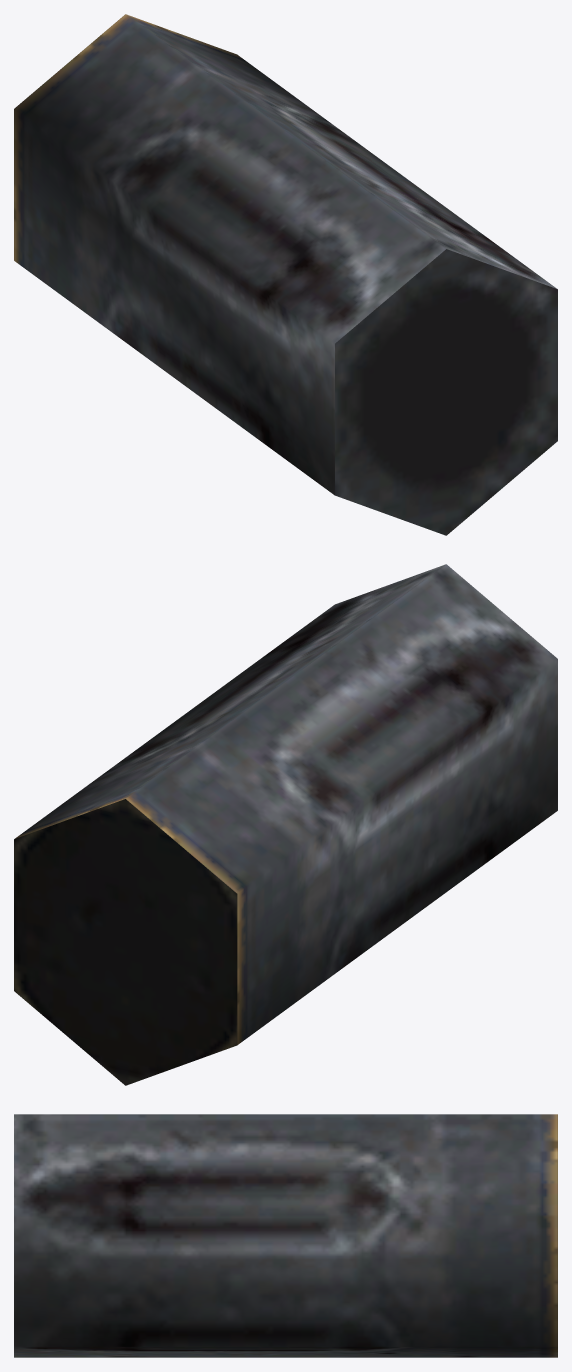
Rendered from Pickup_WeaponZj14.glb.
3 views of the same model, one above another, from view 1: azimuth 30°, elevation 25°; view 2: azimuth 150°, elevation 25°; view 3: azimuth 270°, elevation 25° (orthographic). The views are drawn at different scales.
Visible parts, largest first — view 1: pk_weapon_zj14; view 2: pk_weapon_zj14; view 3: pk_weapon_zj14.
Boxes of the visible parts, box(x1,y1,x2,y2) form: pk_weapon_zj14: box(14, 14, 557, 535); pk_weapon_zj14: box(14, 564, 557, 1085); pk_weapon_zj14: box(14, 1114, 557, 1357).
Bounding box in the file's own units: 0.0628 × 0.0772 × 0.1565.
1 material, 1 textured.
